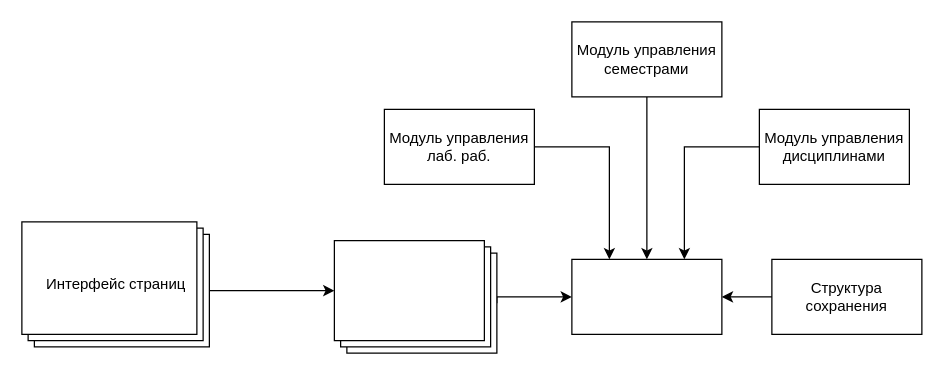
Image size: 944x375. Some labels were removed from this diagram. Each missing label, with the centre of its shape:
"Блок управления приложением" goes at pixel 646 296.
"Логика страниц" goes at pixel 415 296.
